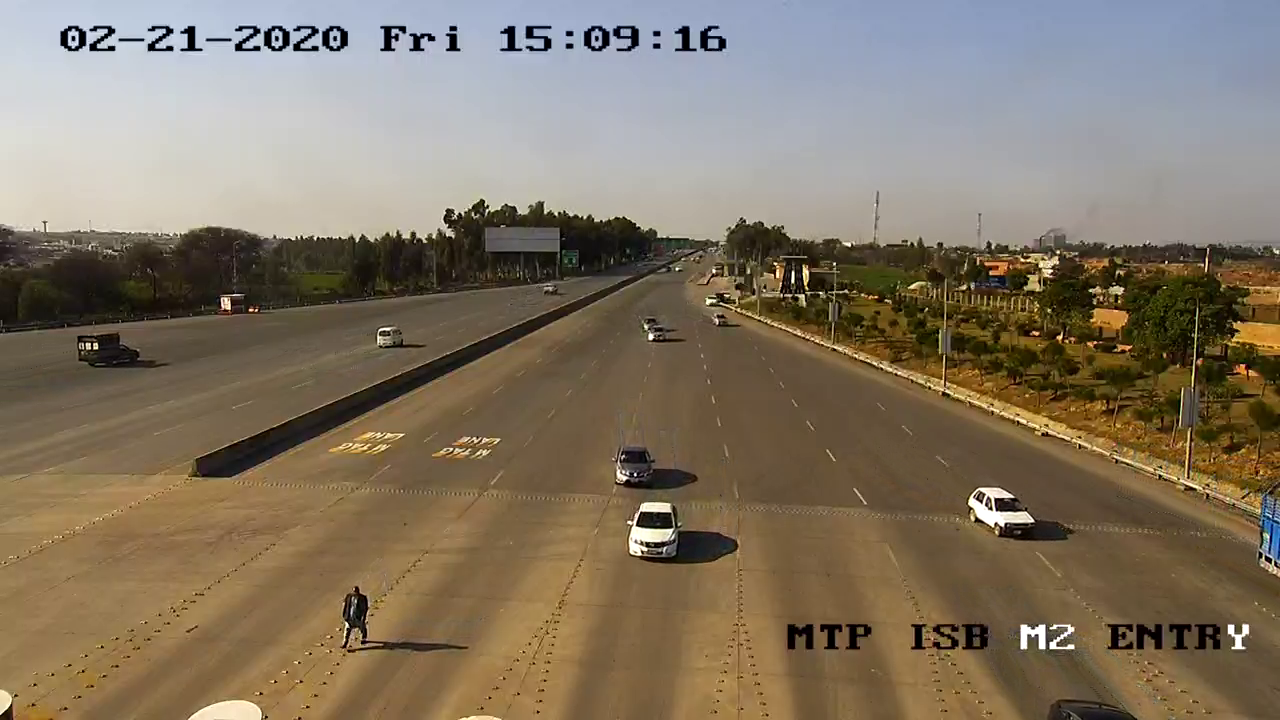f1: (964, 478, 1040, 548), (620, 495, 690, 564), (607, 433, 663, 492)
